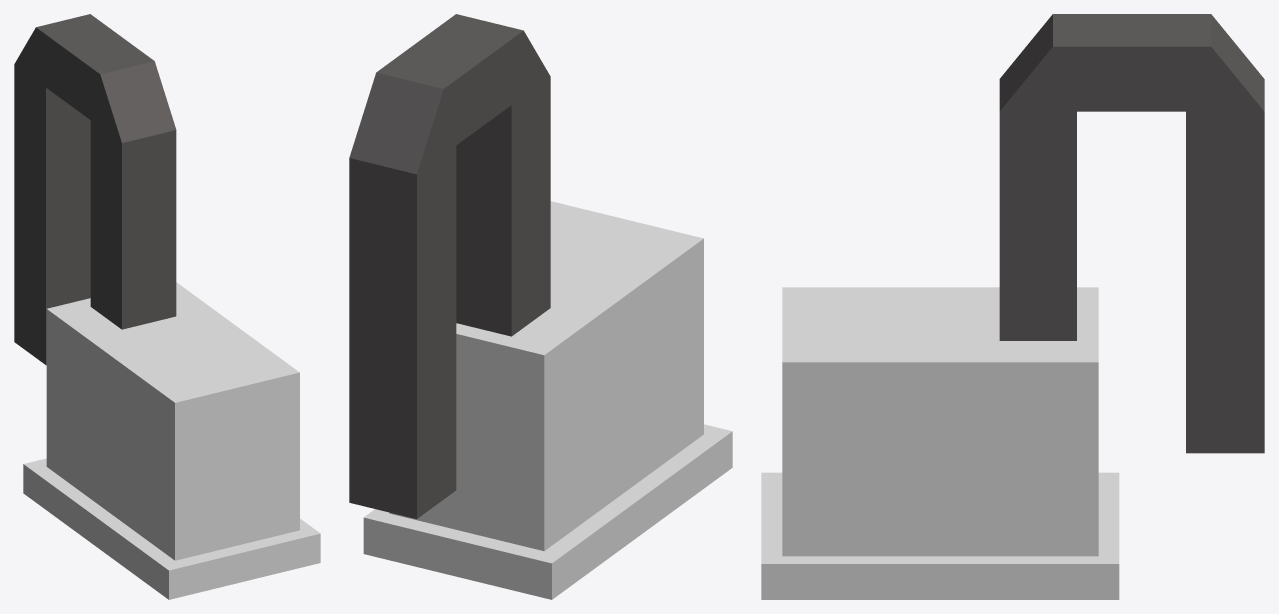
The model's file is Lock_Unlocked.fbx.
3 views of the same model, side by side, from view 1: azimuth 30°, elevation 25°; view 2: azimuth 150°, elevation 25°; view 3: azimuth 270°, elevation 25° (orthographic). The views are drawn at different scales.
Visible parts, largest first — view 1: Cube.001; view 2: Cube.001; view 3: Cube.001.
Part boxes in pixels (<box>): Cube.001: <box>14,14,320,599</box>; Cube.001: <box>349,14,732,599</box>; Cube.001: <box>761,14,1264,599</box>.
Bounding box in the file's own units: 232 × 631 × 541.
